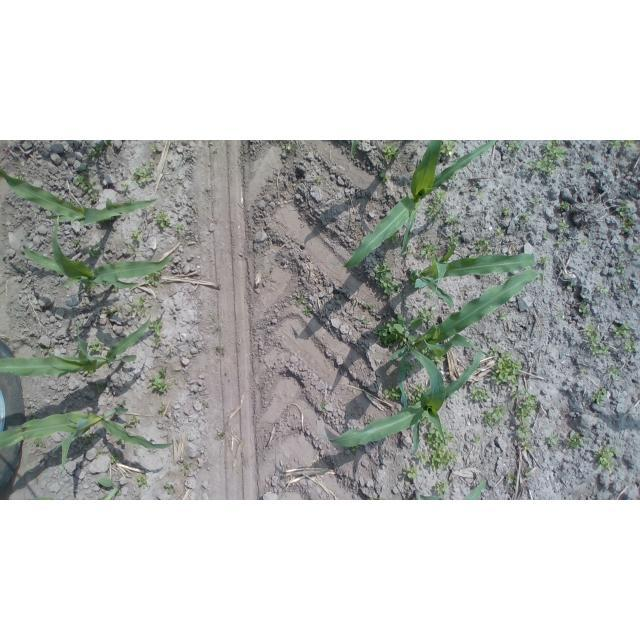Maize: (389, 271, 543, 410), (333, 140, 496, 269), (320, 344, 482, 448), (18, 214, 177, 289), (1, 406, 176, 470), (0, 163, 158, 225), (1, 315, 152, 377), (408, 244, 537, 307), (25, 478, 123, 500), (415, 478, 486, 500)
Weeds: (425, 424, 459, 473), (374, 317, 422, 348), (487, 347, 523, 387), (528, 140, 567, 173), (374, 260, 402, 297), (584, 322, 609, 357), (75, 174, 102, 204), (612, 322, 636, 354), (426, 186, 446, 221), (147, 368, 173, 394), (126, 294, 153, 317), (132, 162, 156, 187), (616, 202, 636, 232), (594, 444, 617, 470), (420, 242, 442, 263), (484, 405, 504, 428), (410, 383, 430, 405), (518, 420, 532, 450), (86, 140, 111, 156), (438, 140, 456, 160), (153, 210, 171, 227), (433, 479, 450, 497), (475, 237, 492, 255), (149, 316, 164, 336), (146, 269, 163, 286), (567, 432, 583, 449), (383, 144, 400, 160), (592, 388, 607, 406), (86, 340, 106, 353), (444, 215, 461, 230), (88, 246, 107, 259), (419, 307, 434, 323), (610, 140, 640, 148), (406, 359, 423, 373), (403, 466, 418, 481), (430, 353, 446, 367), (384, 388, 400, 401), (377, 172, 390, 186), (126, 417, 141, 429), (389, 232, 403, 244), (578, 302, 590, 316), (416, 452, 430, 464), (137, 473, 148, 488), (505, 142, 523, 151), (519, 213, 529, 228), (608, 368, 620, 380), (132, 228, 143, 241), (127, 244, 138, 257), (151, 337, 163, 348), (497, 310, 508, 322), (421, 346, 432, 358), (364, 303, 377, 313), (507, 472, 517, 485), (104, 307, 120, 315), (83, 284, 97, 293), (449, 235, 459, 247), (559, 220, 569, 232), (96, 384, 105, 397), (296, 294, 305, 307), (84, 433, 95, 443), (164, 484, 176, 493), (540, 256, 552, 265), (110, 453, 120, 463), (350, 445, 360, 455), (547, 436, 558, 445), (502, 205, 511, 216), (406, 244, 414, 256), (35, 438, 45, 447), (560, 201, 569, 211), (45, 348, 56, 356), (421, 416, 432, 424), (176, 224, 185, 233), (472, 436, 481, 445), (531, 198, 540, 207), (473, 188, 483, 196), (302, 308, 312, 316), (599, 284, 609, 292), (617, 263, 625, 273), (632, 247, 640, 256), (496, 228, 504, 237), (95, 449, 102, 459), (425, 293, 435, 300), (83, 370, 94, 376), (321, 402, 327, 413), (123, 184, 132, 191), (118, 438, 127, 445), (360, 317, 369, 324), (525, 468, 532, 477), (585, 162, 592, 171), (152, 143, 158, 153), (73, 239, 81, 246), (159, 407, 166, 415), (450, 172, 457, 180), (404, 389, 409, 400), (557, 312, 563, 321), (127, 197, 134, 204), (219, 432, 226, 438), (582, 238, 589, 244), (557, 239, 564, 245), (285, 146, 292, 152), (184, 464, 192, 469), (447, 243, 452, 251), (167, 348, 173, 354), (111, 286, 117, 292), (194, 207, 200, 213), (367, 498, 385, 500), (365, 420, 371, 426), (619, 285, 625, 291), (315, 177, 321, 183), (16, 176, 24, 180), (204, 402, 209, 408), (451, 392, 457, 397), (567, 283, 572, 289), (544, 233, 548, 240), (469, 254, 476, 258), (592, 267, 597, 272), (84, 168, 89, 173), (620, 254, 625, 259), (208, 143, 215, 146), (117, 490, 121, 495)
